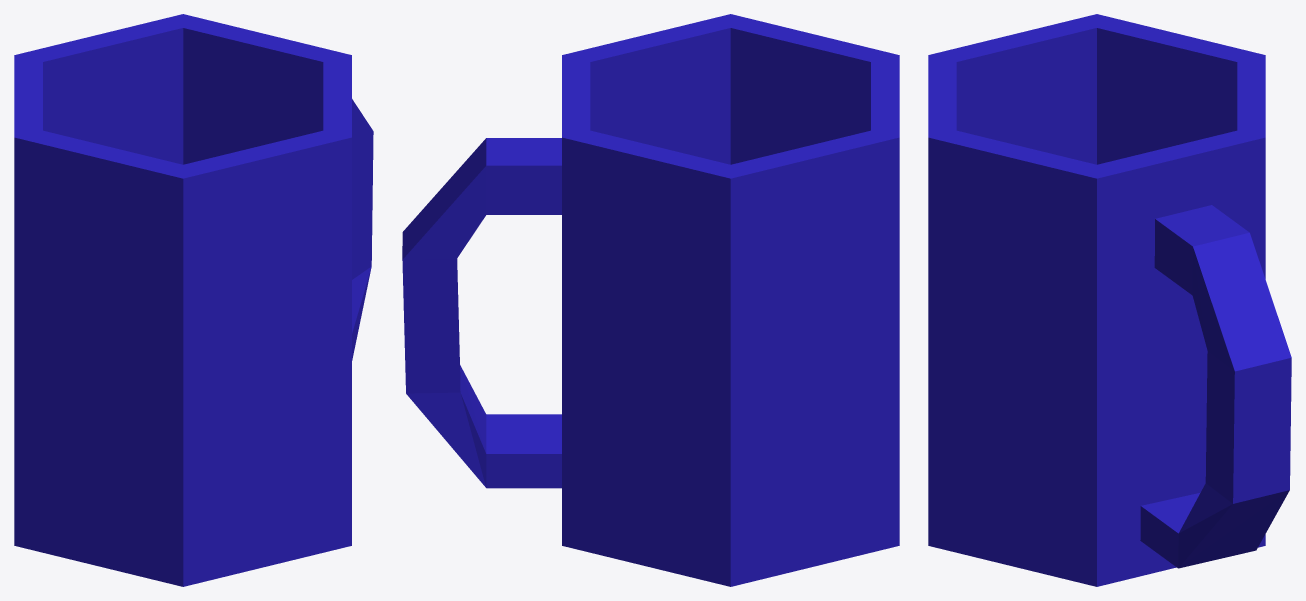
Rendered from barduck.fbx.
The picture shows the model from 3 angles, left to right: view 1: azimuth 30°, elevation 25°; view 2: azimuth 150°, elevation 25°; view 3: azimuth 270°, elevation 25°; orthographic projection.
Visible parts, largest first — view 1: Cylinder; view 2: Cylinder; view 3: Cylinder.
Part boxes in pixels (x1,y1,x2,y2): Cylinder: [14, 14, 373, 586]; Cylinder: [402, 14, 899, 586]; Cylinder: [928, 14, 1291, 586].
Size of the model in its own units: 129 by 117 by 94.59.
